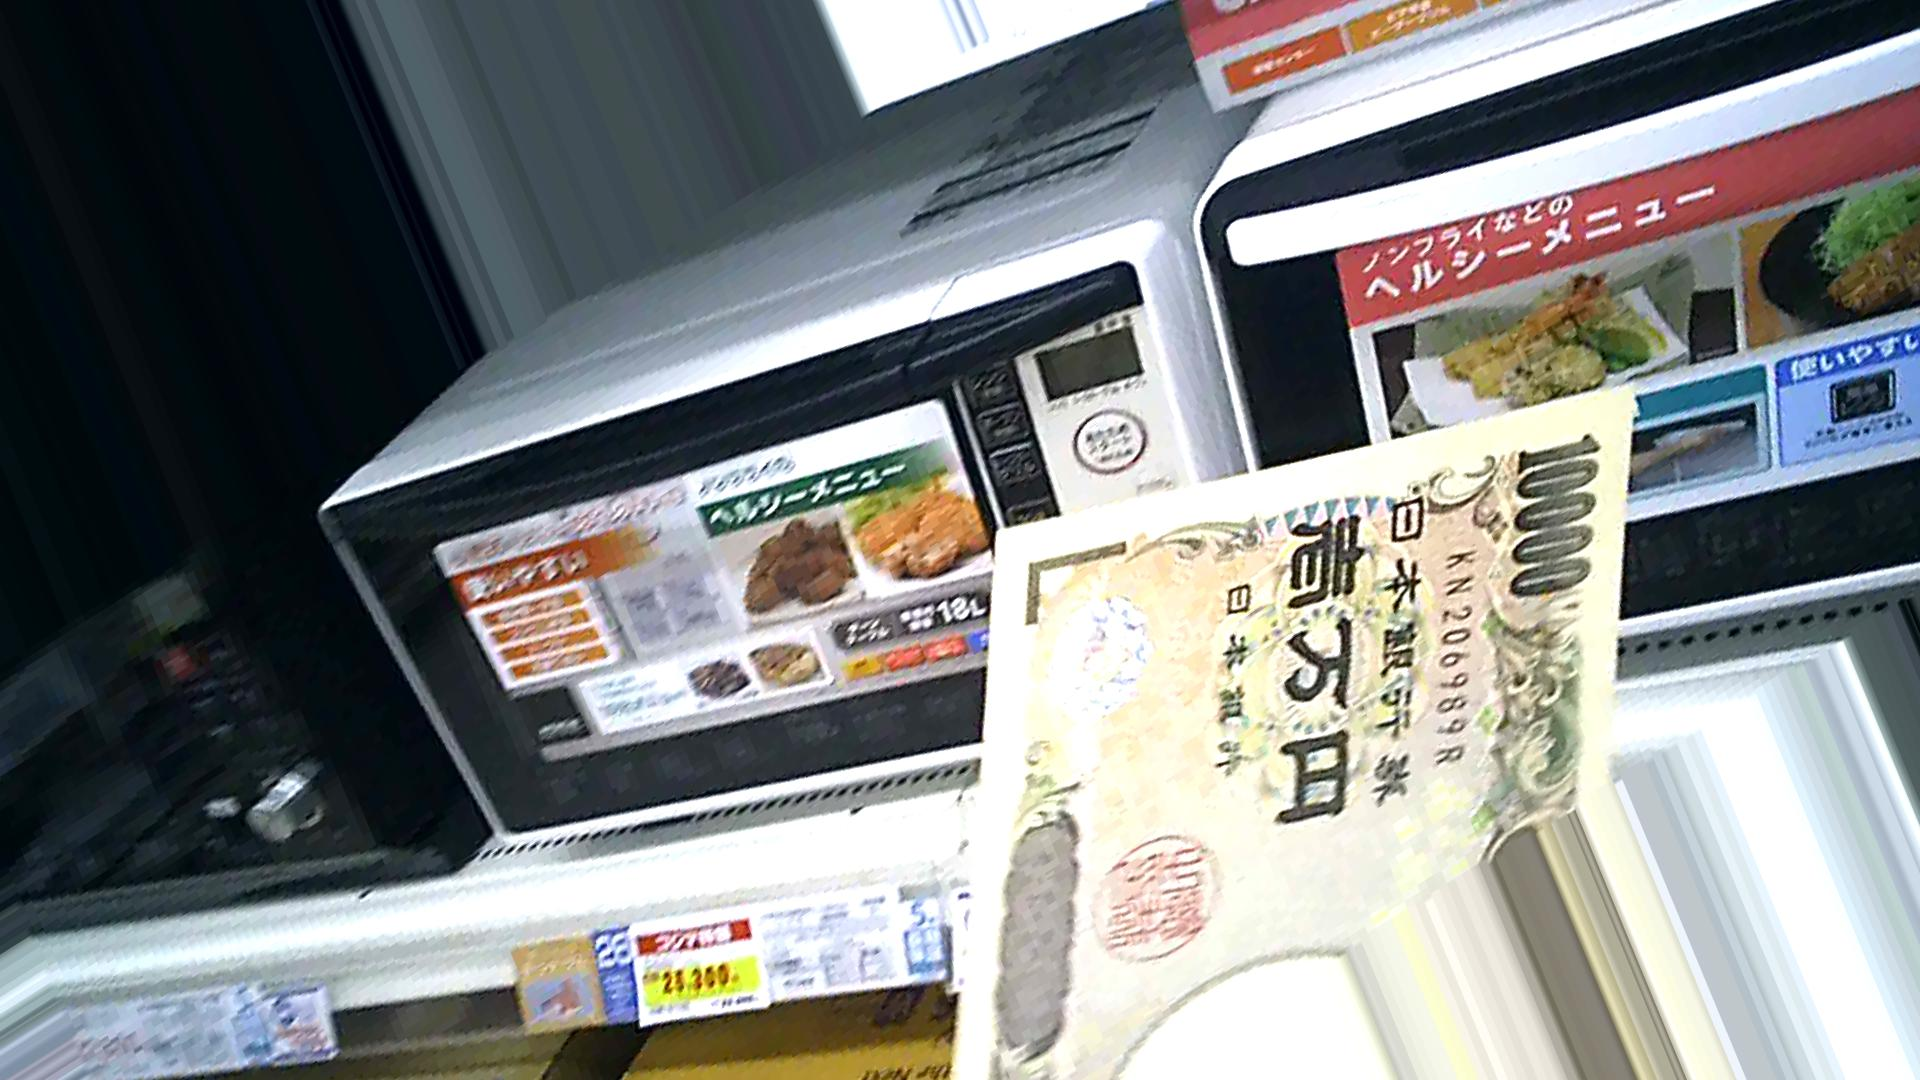10,000 Yen: (939, 393, 1629, 993)
